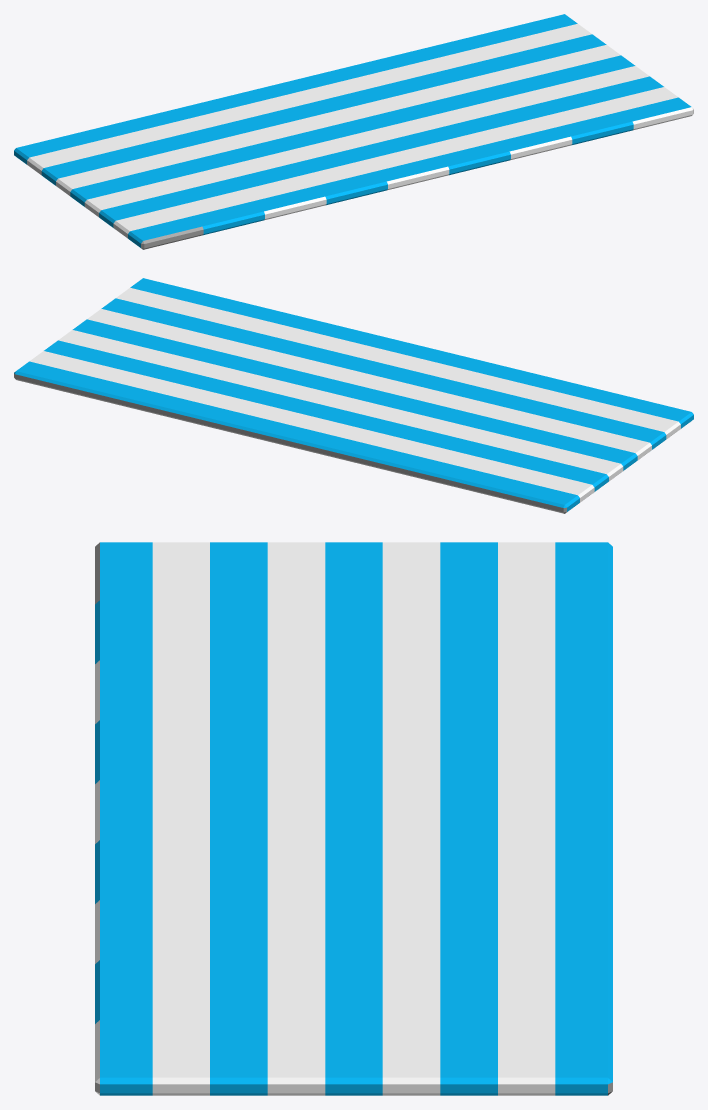
The model's file is towel 1.fbx.
3 views of the same model, one above another, from view 1: azimuth 30°, elevation 25°; view 2: azimuth 150°, elevation 25°; view 3: azimuth 270°, elevation 25° (orthographic). The views are drawn at different scales.
Visible parts, largest first — view 1: towel; view 2: towel; view 3: towel.
Boxes of the visible parts, <box> form: towel: <box>14,14,693,249</box>; towel: <box>14,278,693,513</box>; towel: <box>95,542,612,1095</box>.
Bounding box in the file's own units: 54.05 × 0.8376 × 21.92.
